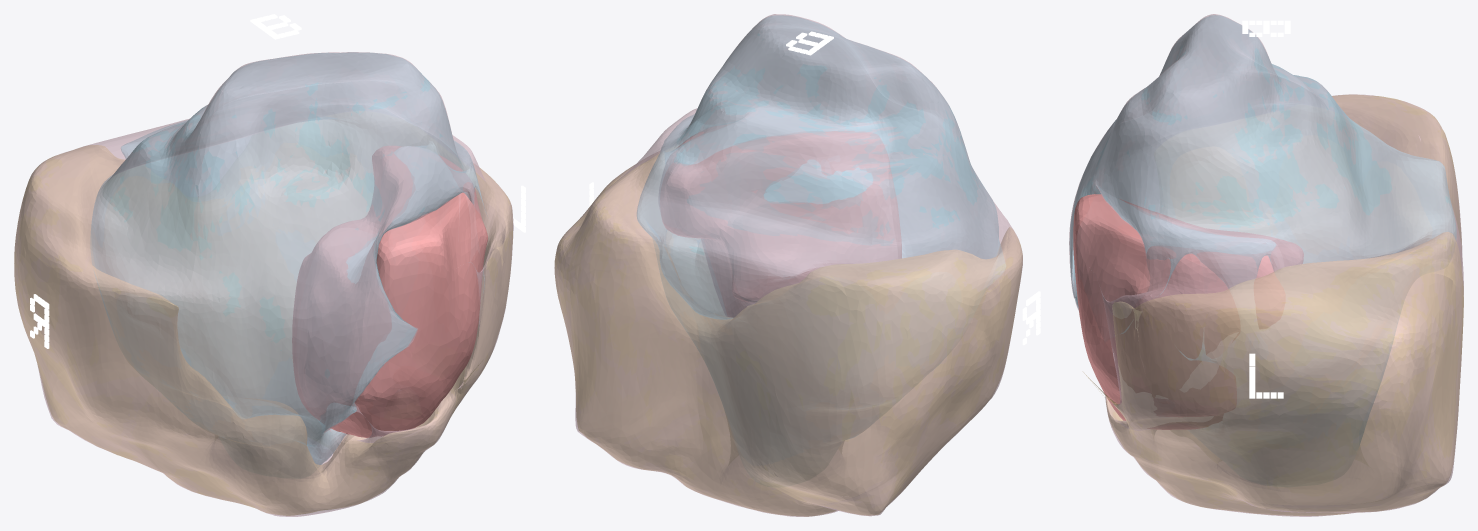
The picture shows the model from 3 angles, left to right: view 1: azimuth 30°, elevation 25°; view 2: azimuth 150°, elevation 25°; view 3: azimuth 270°, elevation 25°; orthographic projection. The views are drawn at different scales.
Visible parts, largest first — view 1: prostate_gland, transition_zone, peripheral_zone, lesion_01, pv_ar_marker_B, pv_ar_marker_R; view 2: prostate_gland, peripheral_zone, transition_zone, lesion_01, pv_ar_marker_B; view 3: prostate_gland, peripheral_zone, transition_zone, lesion_01, pv_ar_marker_B, pv_ar_marker_L.
Boxes of the visible parts, x1,y1,x2,y2 form: prostate_gland: (14, 52, 513, 516); transition_zone: (90, 52, 485, 464); peripheral_zone: (14, 145, 512, 515); lesion_01: (292, 146, 487, 437); pv_ar_marker_B: (250, 14, 301, 39); pv_ar_marker_R: (30, 294, 49, 348); prostate_gland: (554, 14, 1022, 516); peripheral_zone: (554, 153, 1022, 516); transition_zone: (637, 15, 1005, 438); lesion_01: (659, 125, 901, 317); pv_ar_marker_B: (786, 31, 833, 55); prostate_gland: (1069, 14, 1463, 516); peripheral_zone: (1083, 94, 1463, 515); transition_zone: (1070, 15, 1456, 444); lesion_01: (1073, 194, 1303, 429); pv_ar_marker_B: (1242, 20, 1290, 36); pv_ar_marker_L: (1249, 353, 1283, 398).
Bounding box in the file's own units: 0.056 × 0.053 × 0.0406.
